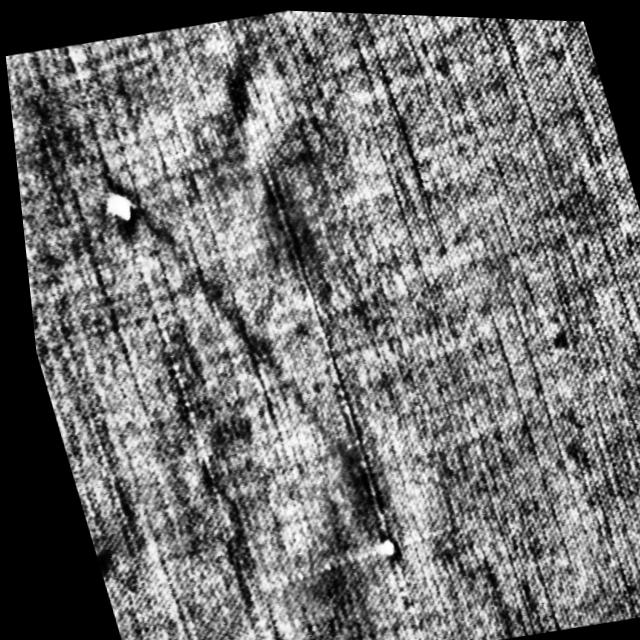Hole: (93, 182, 140, 230), (365, 532, 389, 559)
